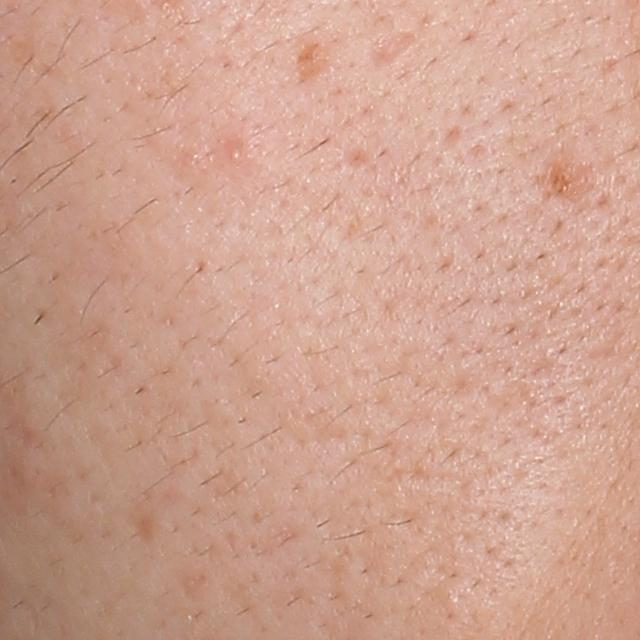atrophic_scar: (361, 29, 423, 76), (340, 143, 374, 175)
comedo: (225, 148, 245, 164)
